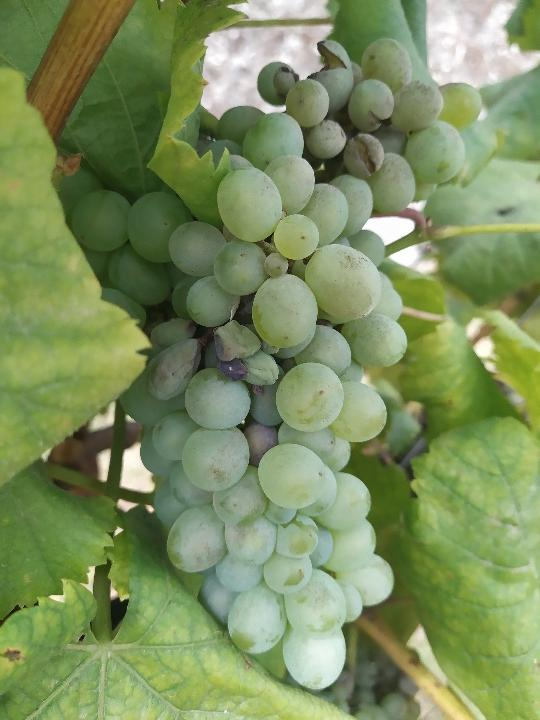grape: (71, 36, 468, 695)
